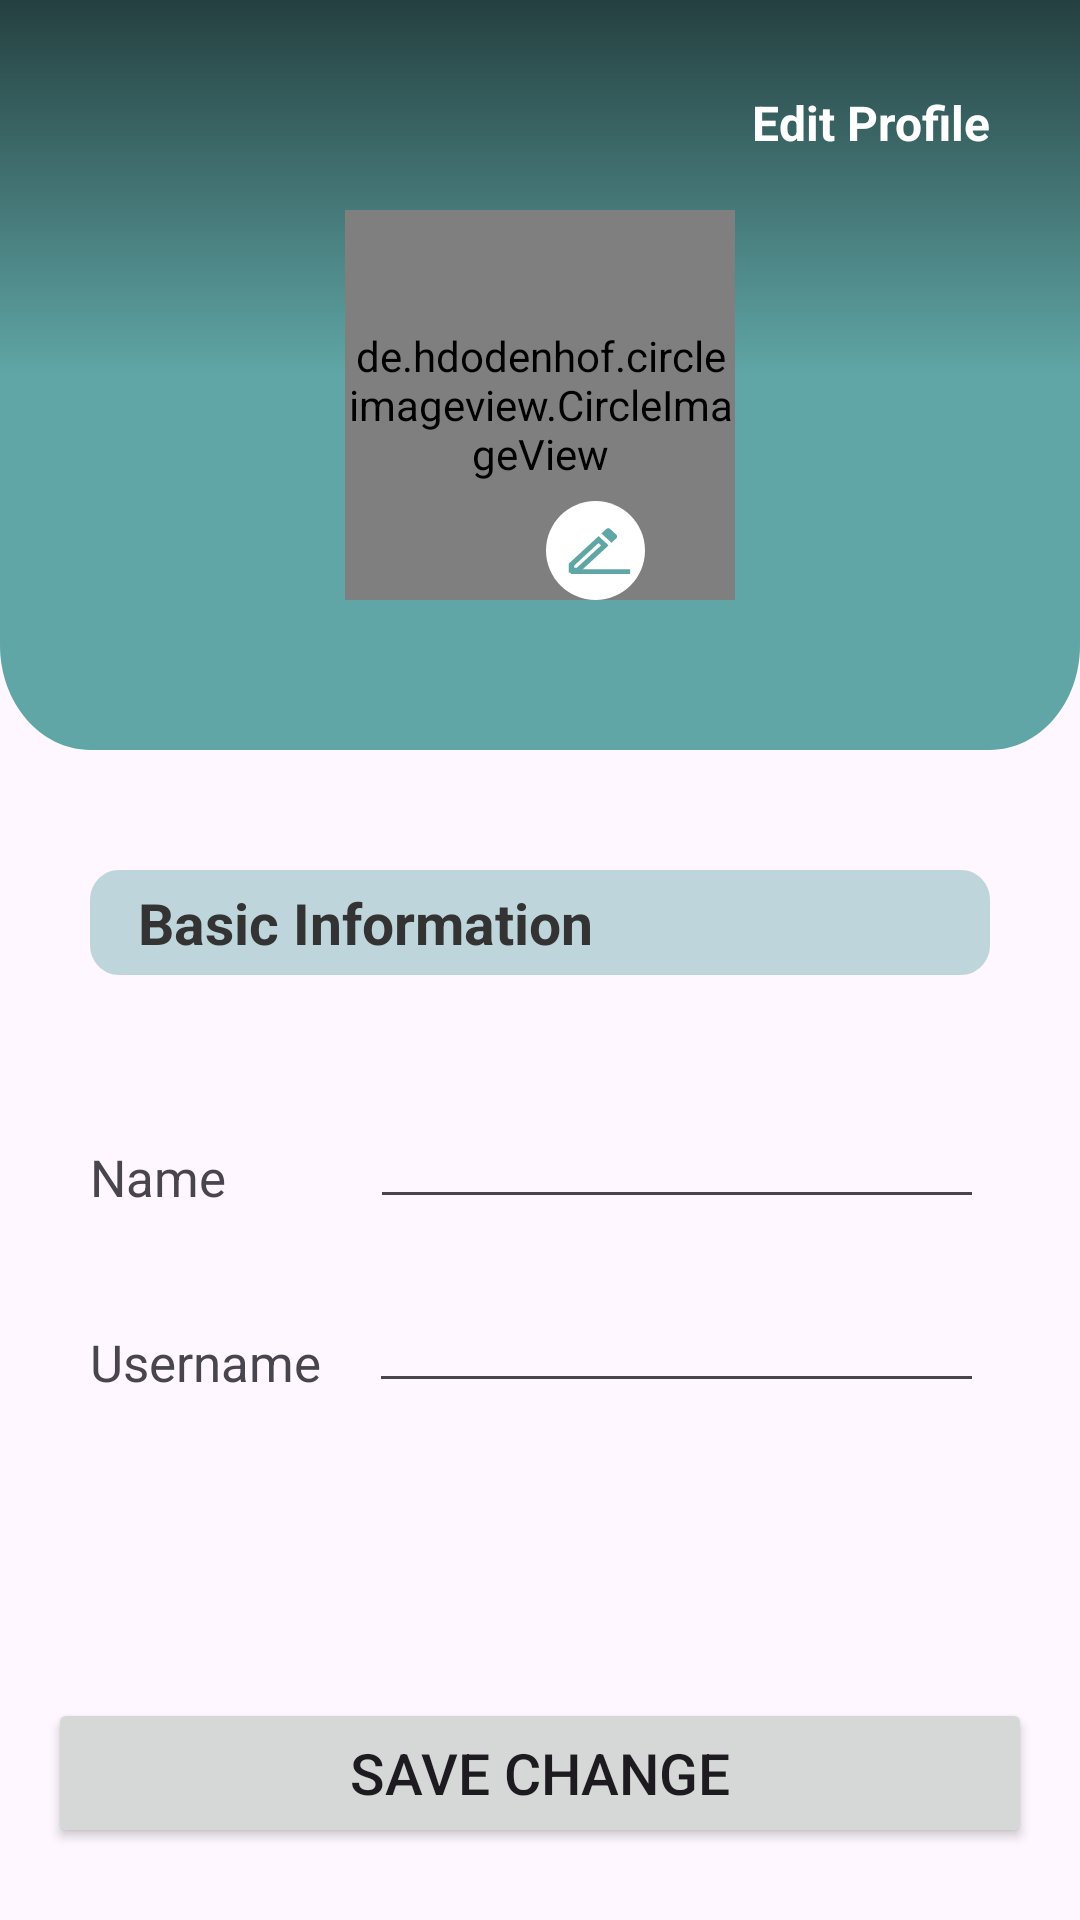

Icons on this 1080 x 1920 Android screen, each with the point to tap as (x=x, y=y):
edit: (x=595, y=550)
